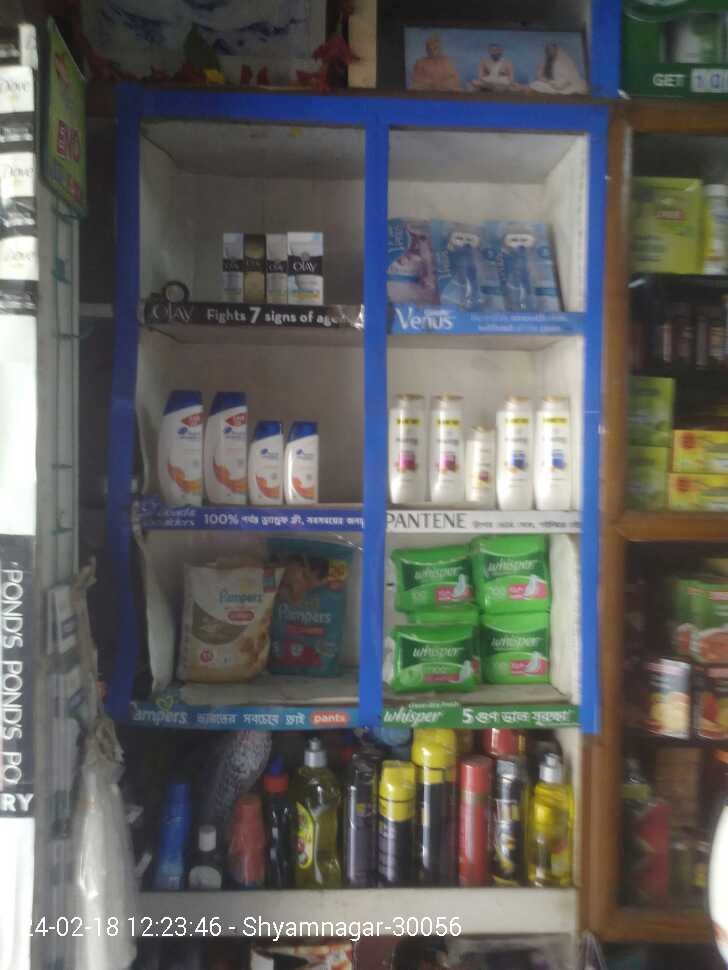venus: (439, 216, 498, 307), (498, 219, 558, 307), (384, 216, 439, 299)
